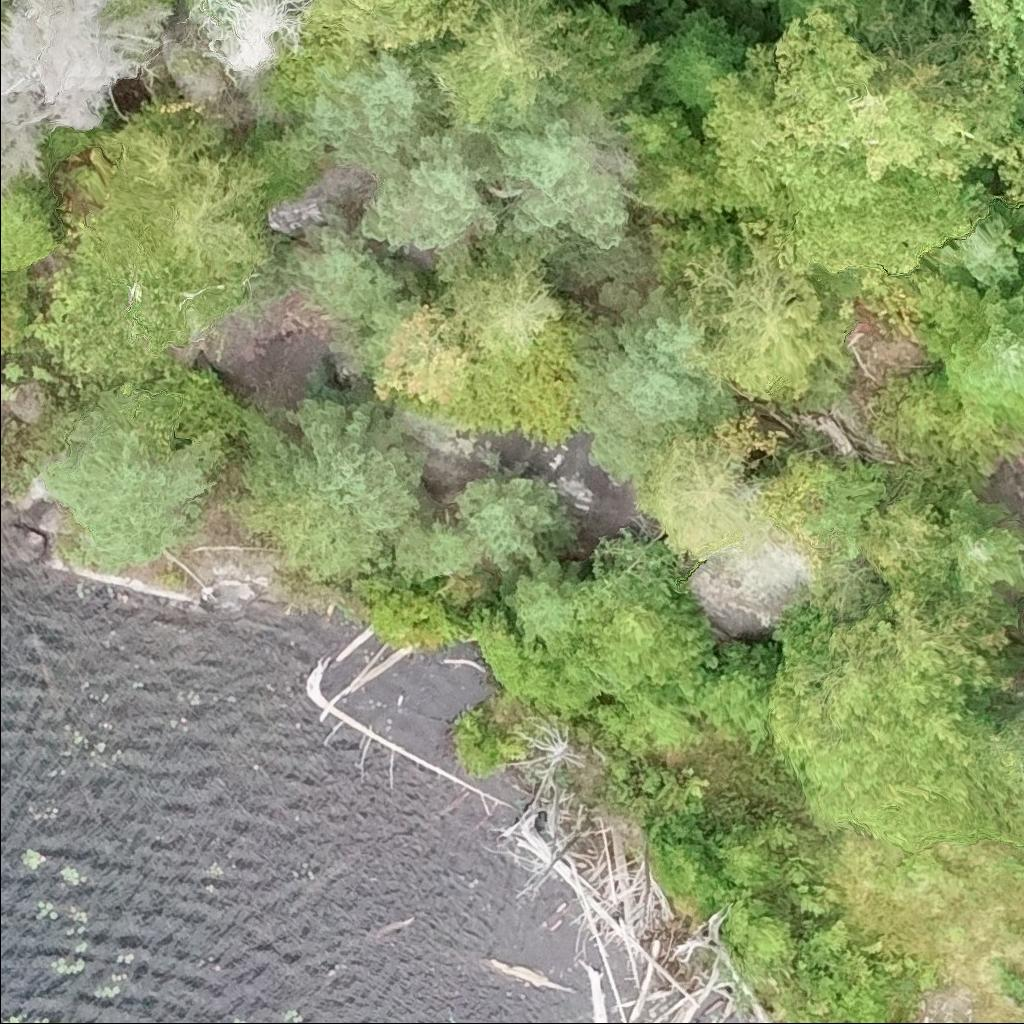crown: (698, 0, 1023, 278), (772, 587, 1022, 758), (79, 87, 276, 286), (233, 384, 429, 582), (574, 275, 744, 490), (0, 0, 176, 205), (801, 710, 1023, 854), (29, 244, 249, 389), (682, 225, 850, 399), (483, 83, 641, 259), (46, 420, 230, 568), (437, 300, 593, 451), (411, 0, 589, 121), (356, 112, 502, 258), (303, 50, 454, 183), (629, 426, 770, 563), (445, 239, 564, 363), (936, 280, 1023, 434), (651, 0, 768, 112), (450, 474, 566, 570), (856, 490, 959, 598), (297, 222, 409, 320), (299, 0, 476, 59), (494, 552, 591, 657), (182, 0, 314, 75), (936, 489, 1023, 594), (922, 199, 1023, 287), (867, 369, 965, 454), (805, 458, 885, 555), (393, 519, 487, 589), (941, 408, 1023, 476), (969, 0, 1023, 78), (742, 0, 817, 31), (599, 0, 675, 18), (855, 0, 888, 29), (1018, 234, 1023, 253), (944, 0, 957, 2)
